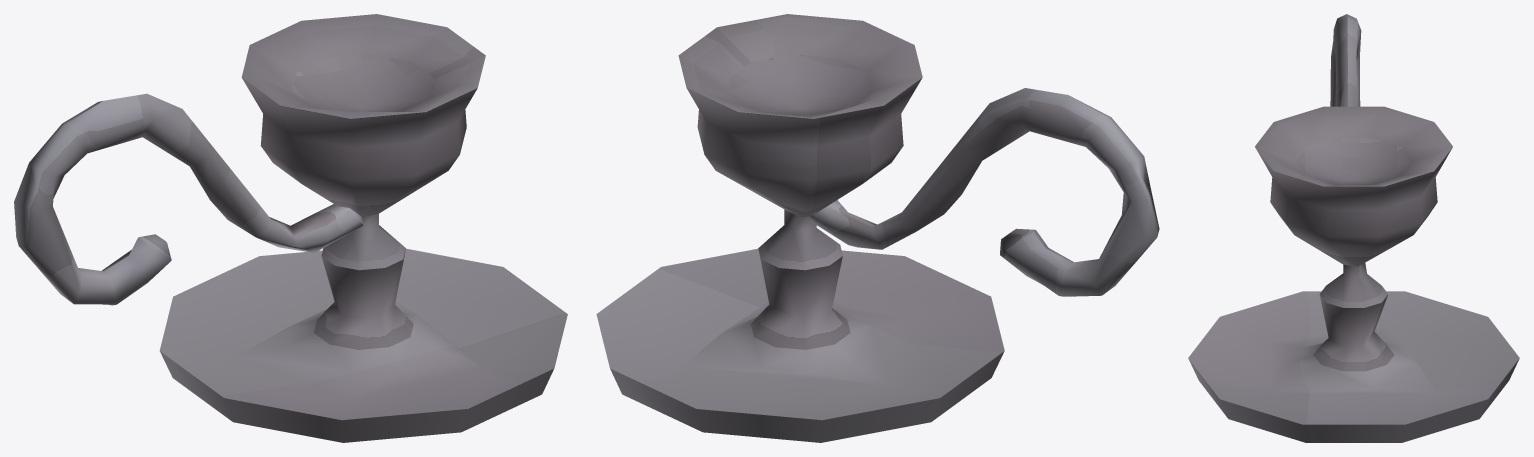
File: candlestick-BoBrEc6j.glb
The picture shows the model from 3 angles, left to right: view 1: azimuth 30°, elevation 25°; view 2: azimuth 150°, elevation 25°; view 3: azimuth 270°, elevation 25°; orthographic projection. The views are drawn at different scales.
Bounding box in the file's own units: 0.2594 × 0.1552 × 0.1794.
Materials: 1 (1 with a texture image).
